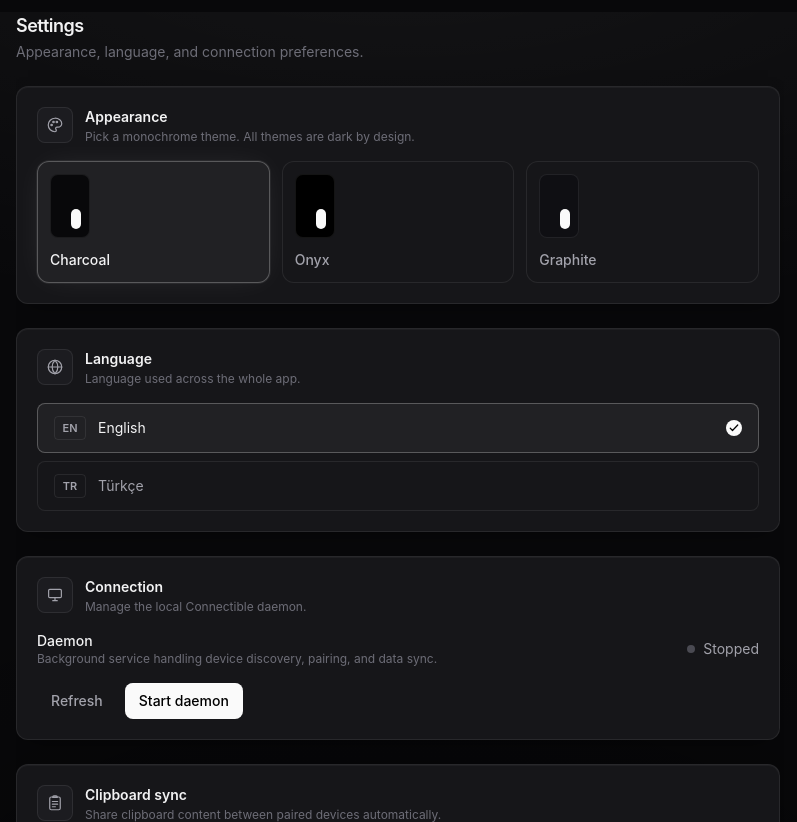
it: SettingsPanel › surfaces a start-daemon failure as an error banner instead of throwing (T-103)
What coordinates should you click on to do the following:
click the button "Start daemon"
I would click on:
 (184, 701)
Its box is [125,683,243,719].
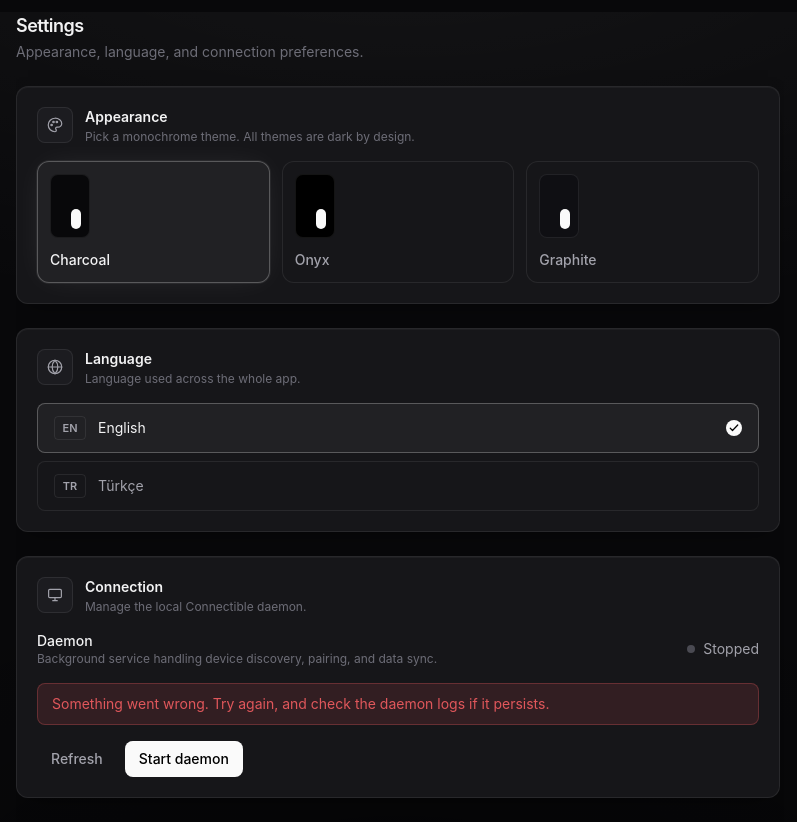
Check: the message does not show "spawn failed", box [37,683,759,725]
Check: the message reads "Something went wrong. Try again, and check the daemon logs if it persists.", box [52,695,550,712]
